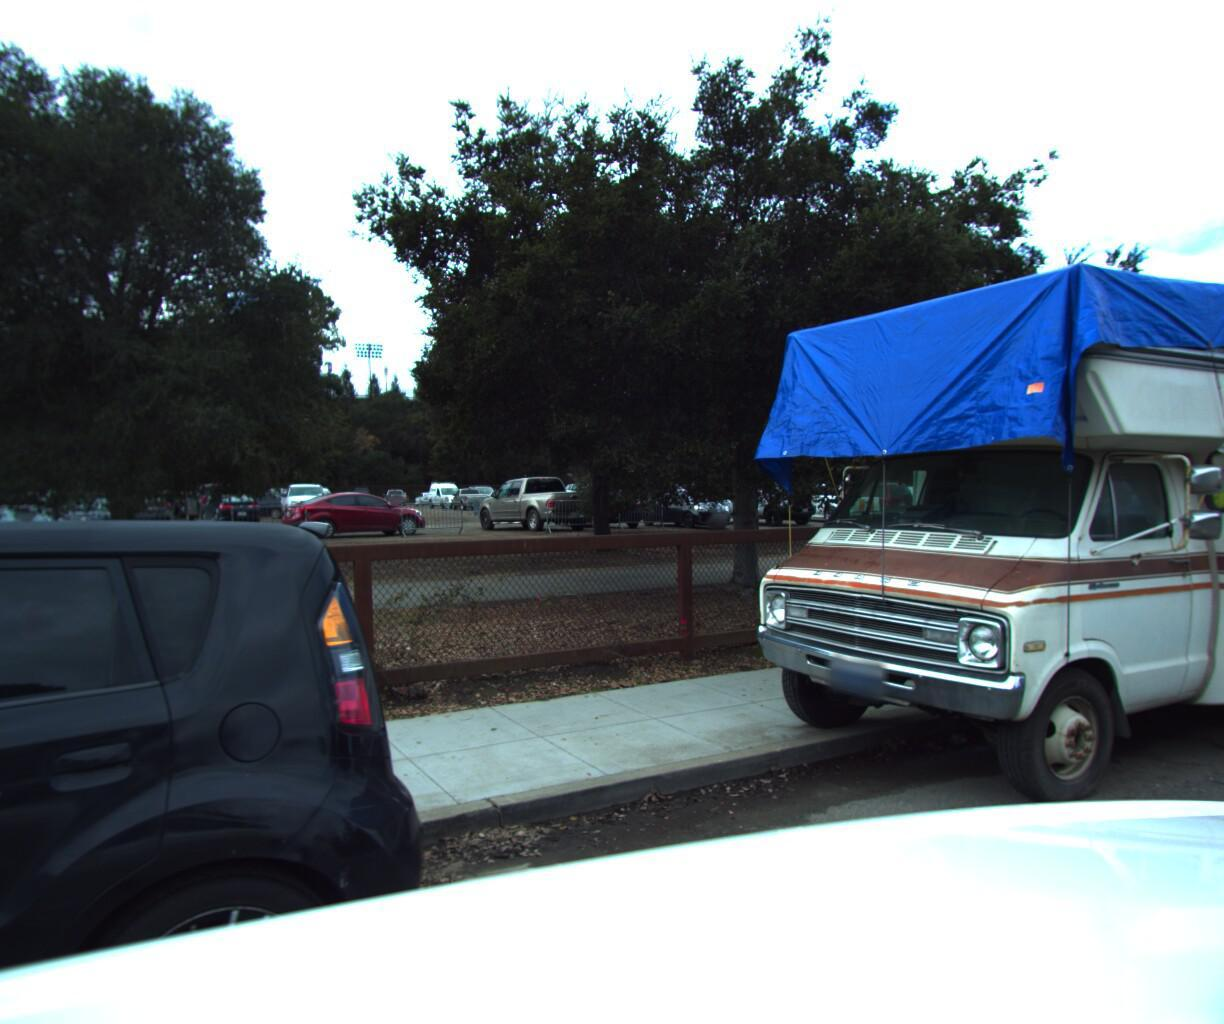car: (0, 499, 485, 1024)
other_vehicle: (698, 210, 1224, 865)
